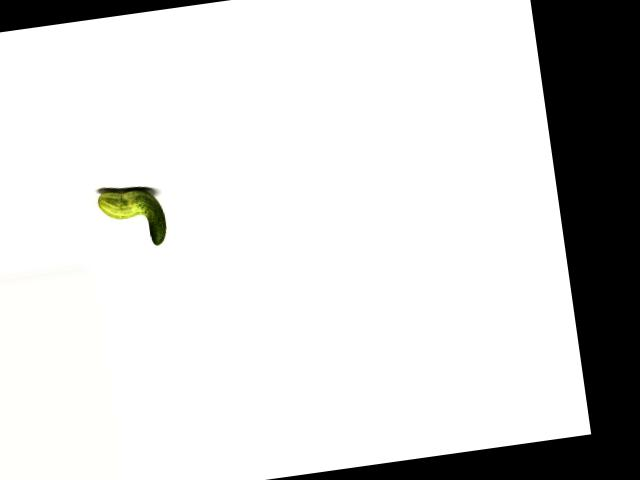cucumber: (96, 183, 169, 252)
